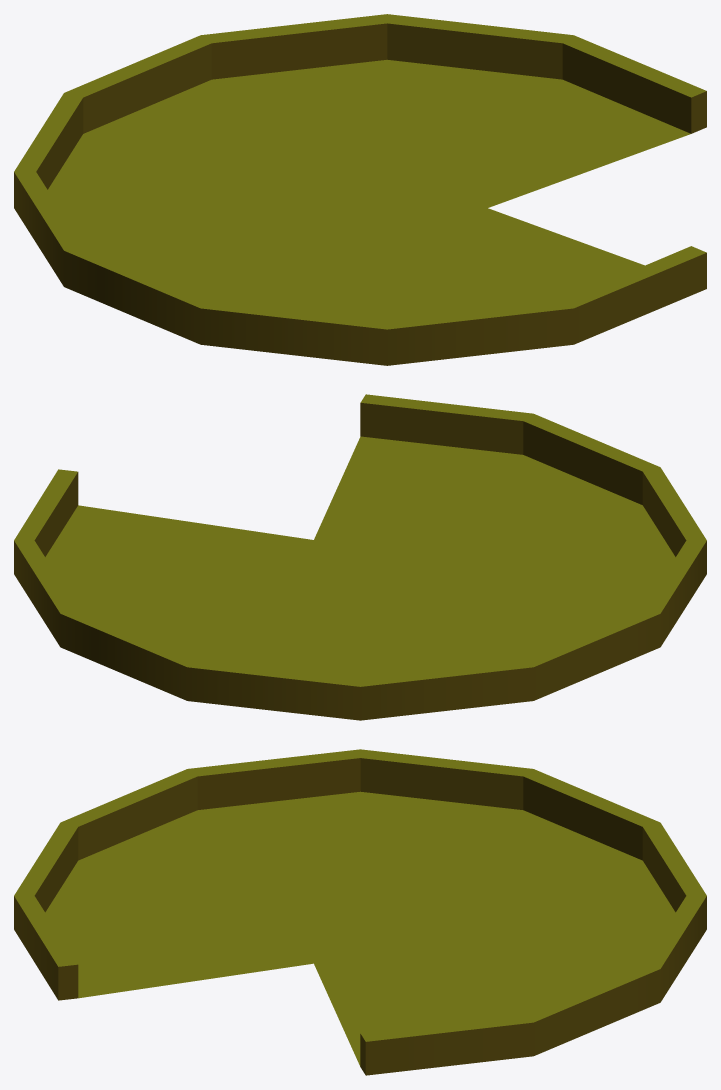
The model's file is nenuphar.fbx.
3 renders of one model, top to bottom at view 1: azimuth 30°, elevation 25°; view 2: azimuth 150°, elevation 25°; view 3: azimuth 270°, elevation 25°, orthographic. The views are drawn at different scales.
Parts seen in each view (by area): view 1: nenuphar; view 2: nenuphar; view 3: nenuphar.
Part boxes in pixels (<box>): nenuphar: <box>14,14,706,365</box>; nenuphar: <box>14,394,706,720</box>; nenuphar: <box>14,749,706,1075</box>.
Bounding box in the file's own units: 317 × 17.06 × 318.
